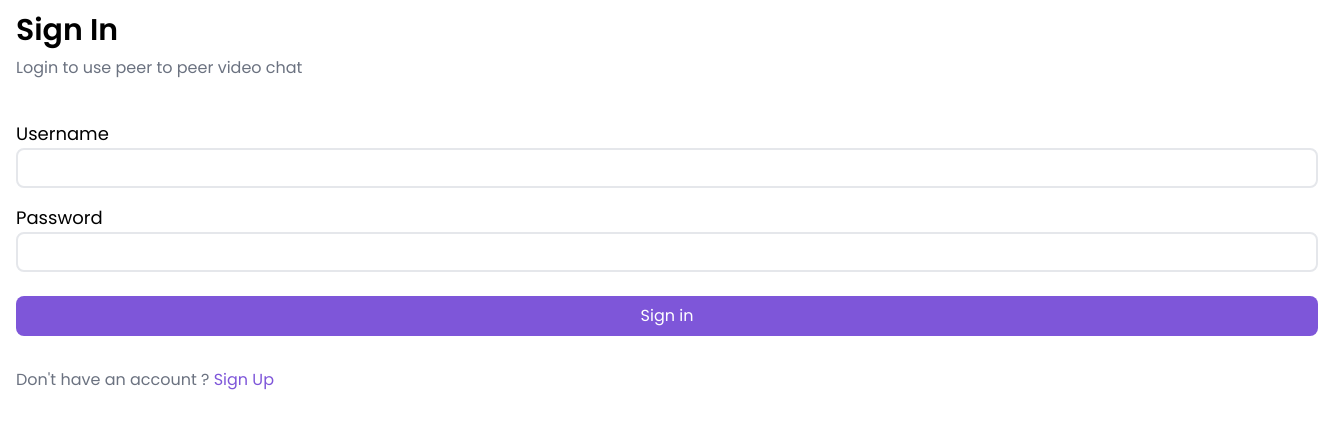
Login form › should pop error for no password when submitted form with correct username
The image size is (1335, 427).
Type "username" into the field labelled "Username" at (667,168), box [16, 148, 1318, 188]
Then press Enter
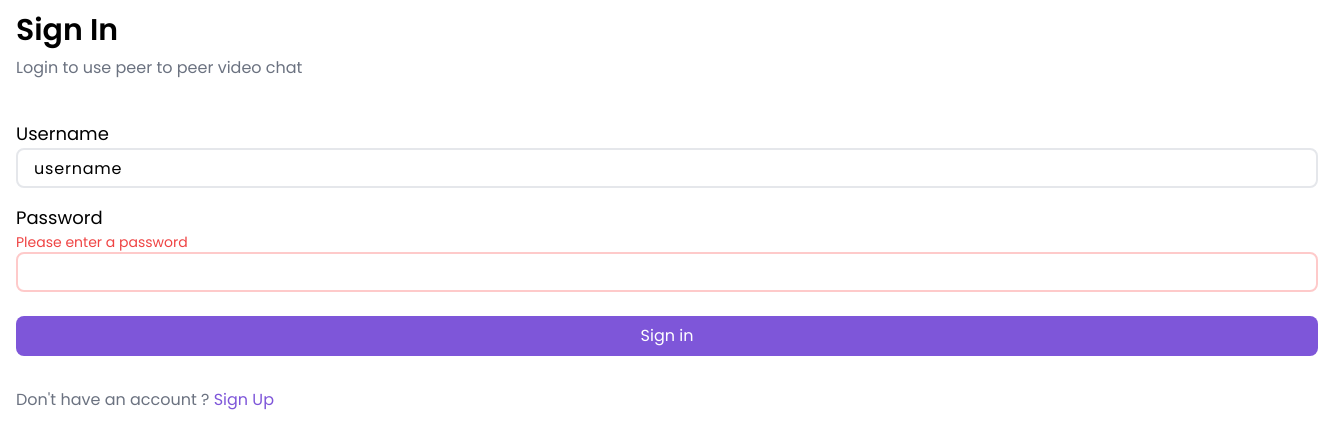
Expected: the text "Please enter a password" is shown, [16, 232, 188, 252]
